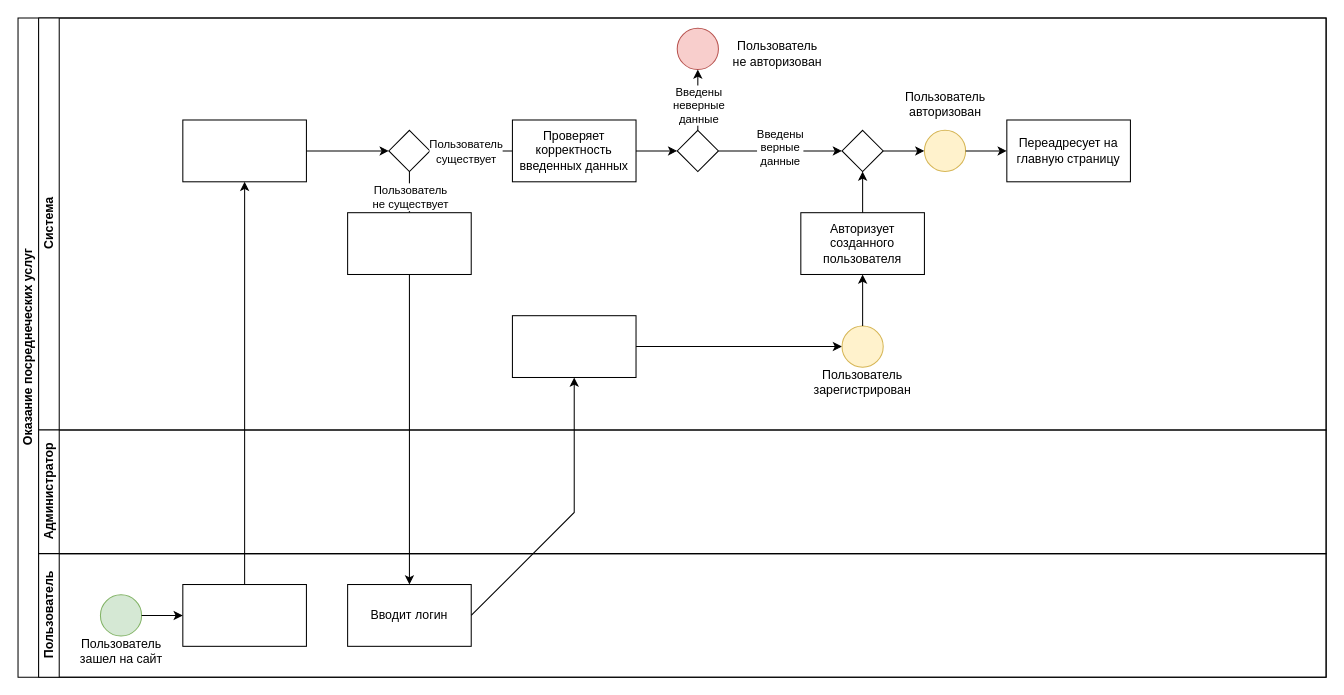
The diagram is 1344 pixels wide and 695 high, and some of its shapes have lost their labels. Here are the shapes that lost their labels. From the top down, the centre of each, then its label:
[244,150]: Проверяет существование пользователя с такими данными
[409,243]: Запрашивает логин для нового пользователя
[573,346]: Создает нового пользователя
[244,614]: Вводит email и пароль
